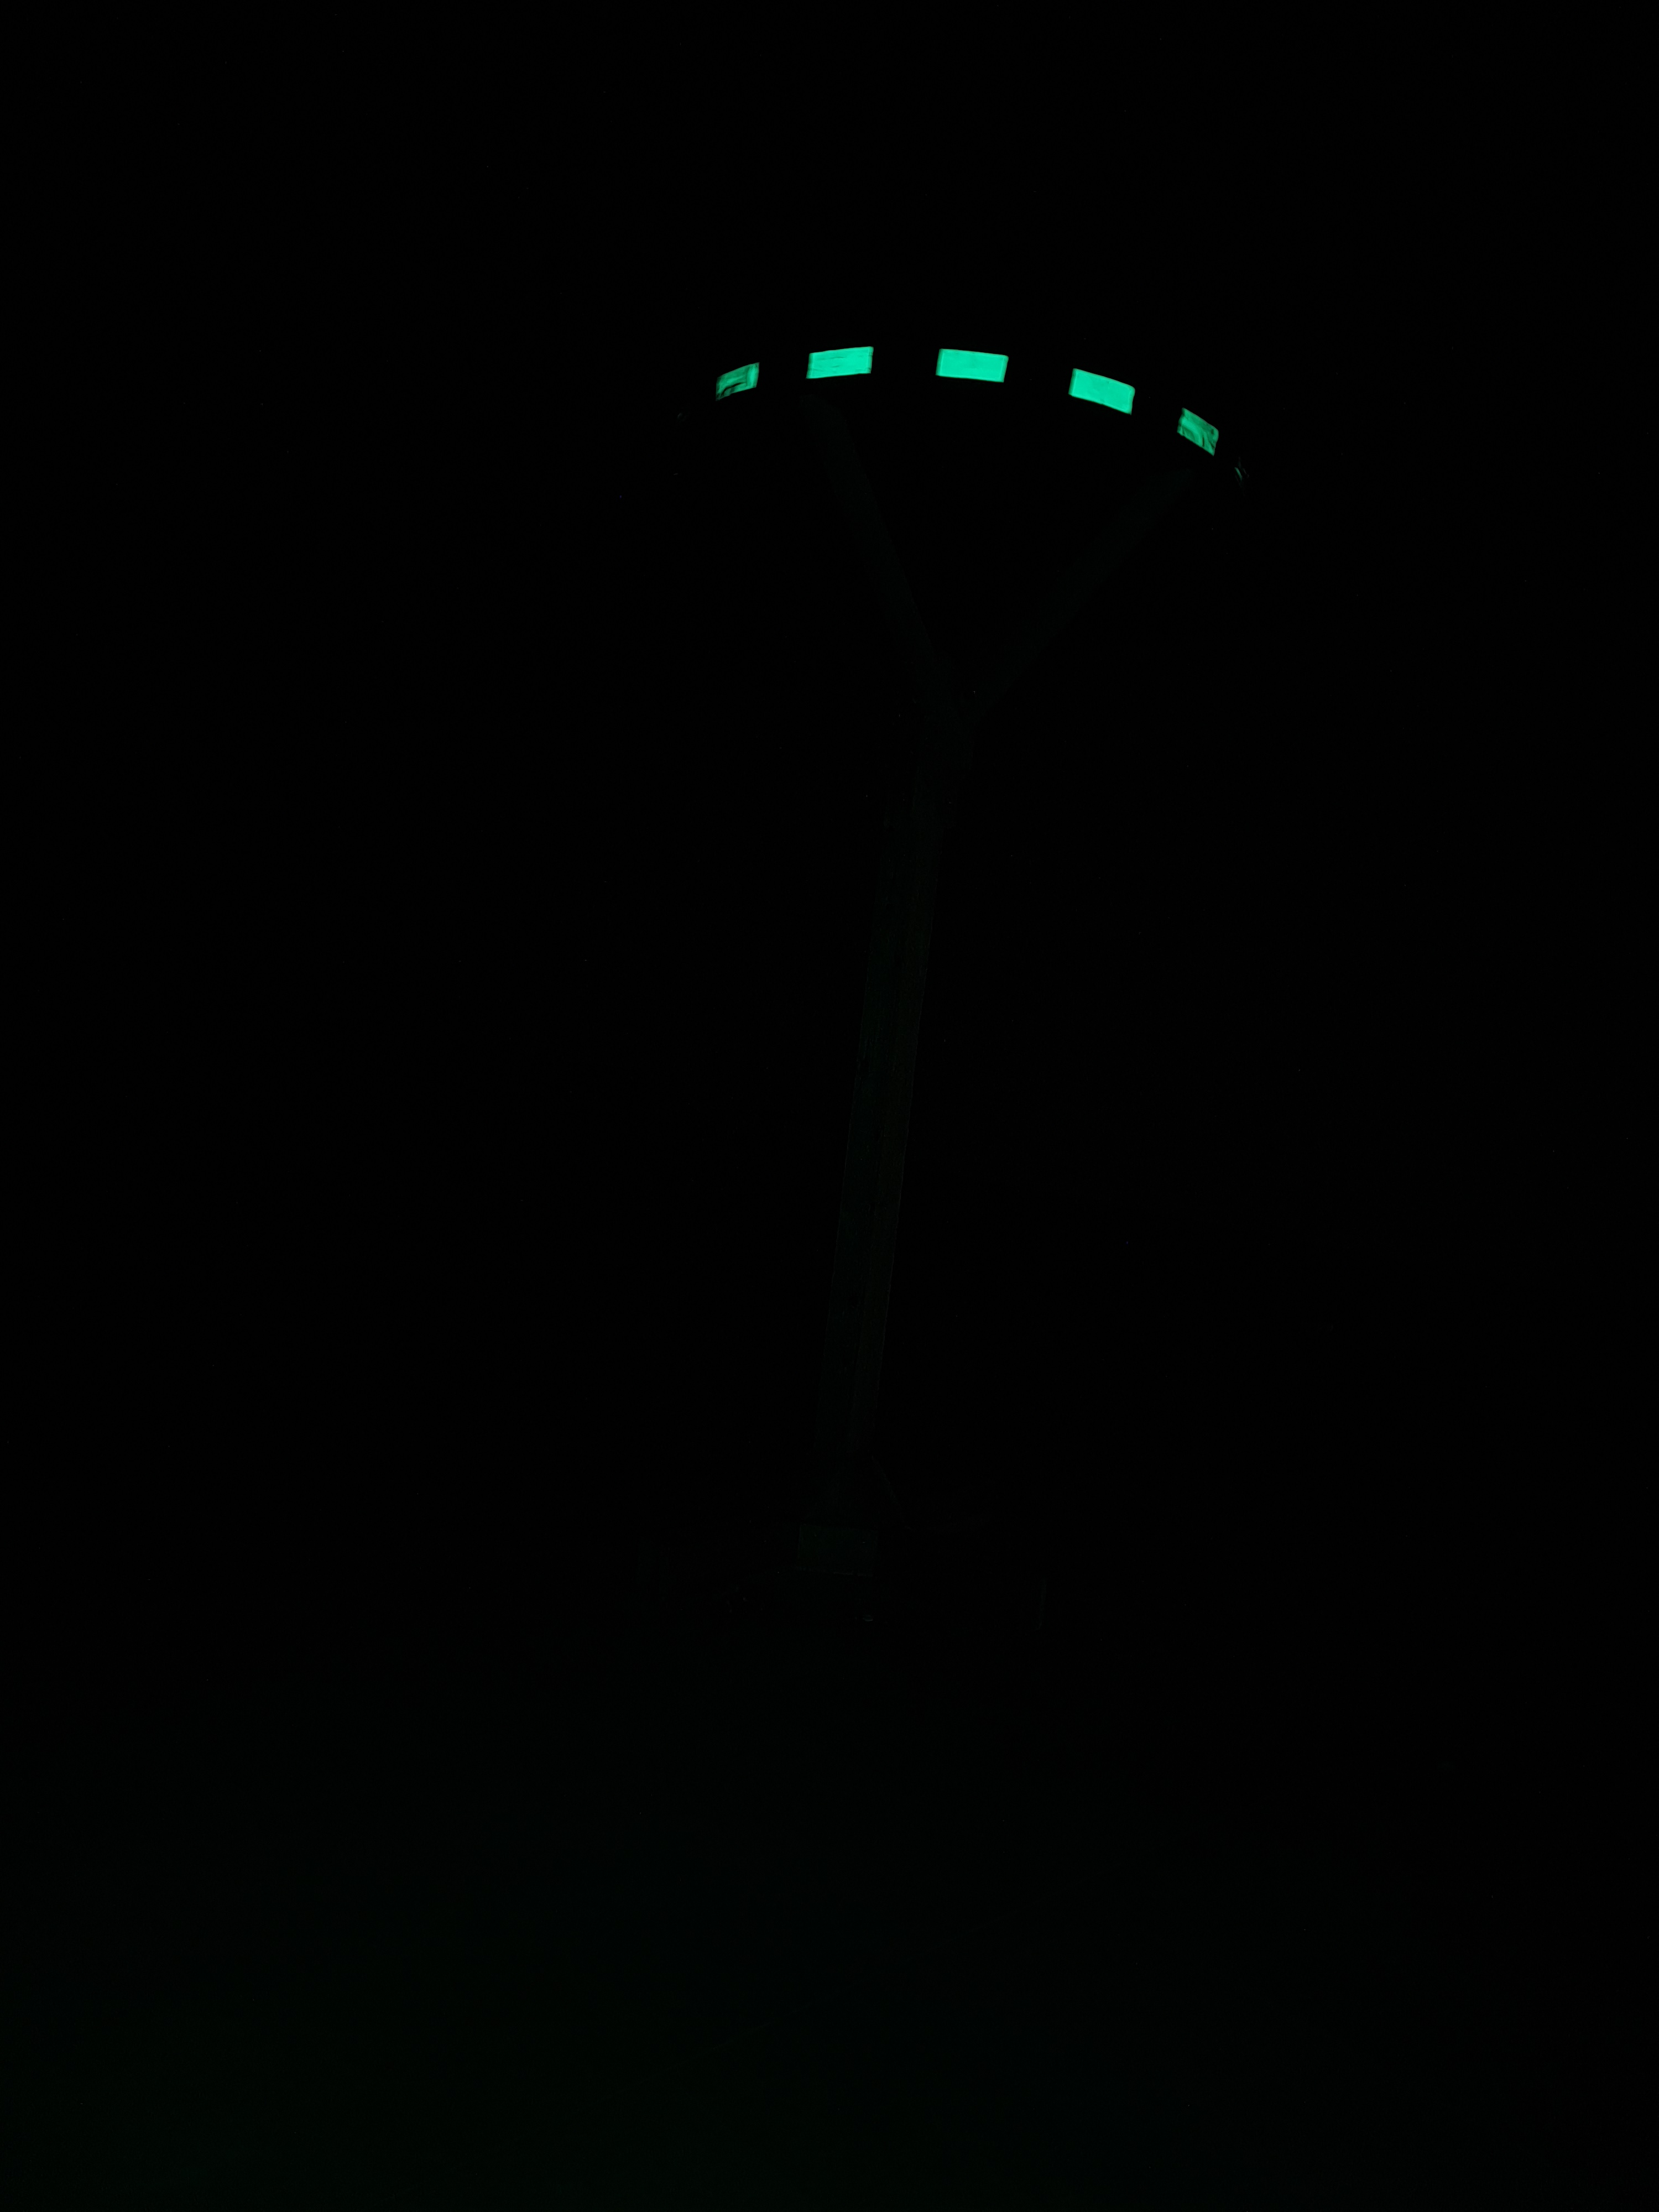hoop: (713, 341, 1222, 458)
